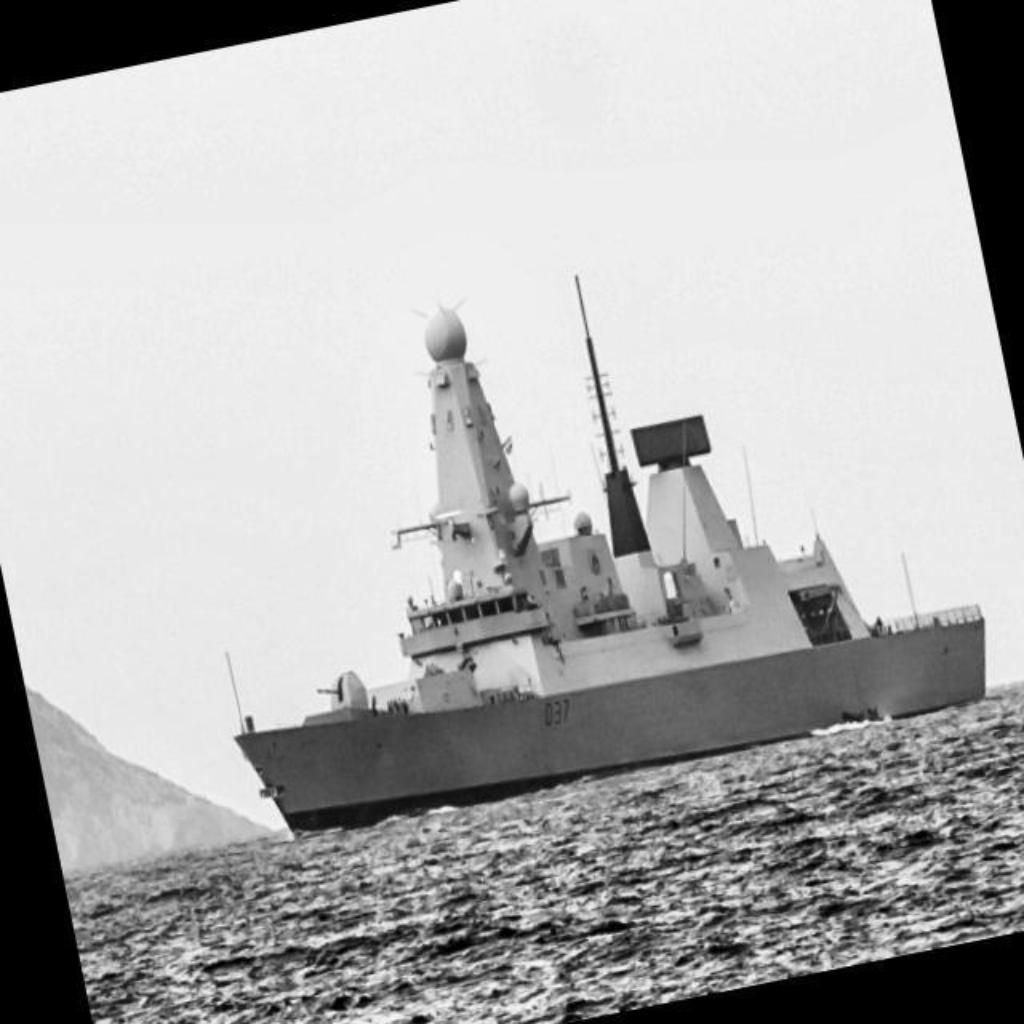Warship: (179, 288, 991, 838)
